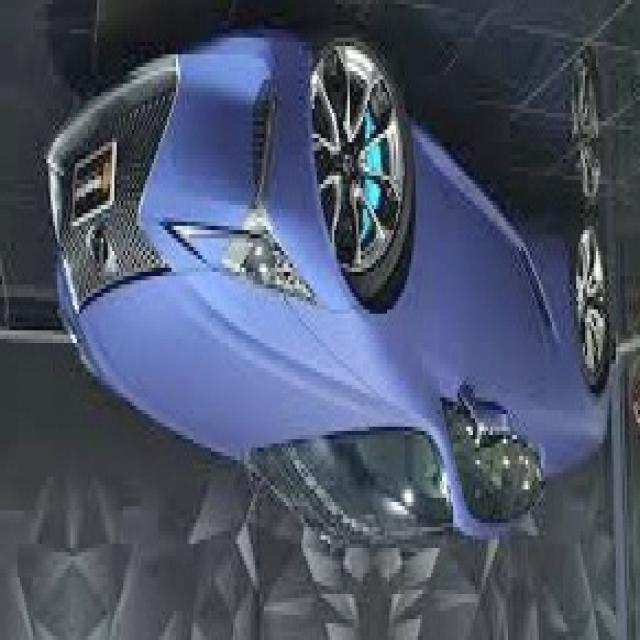blue: (29, 0, 610, 586)
